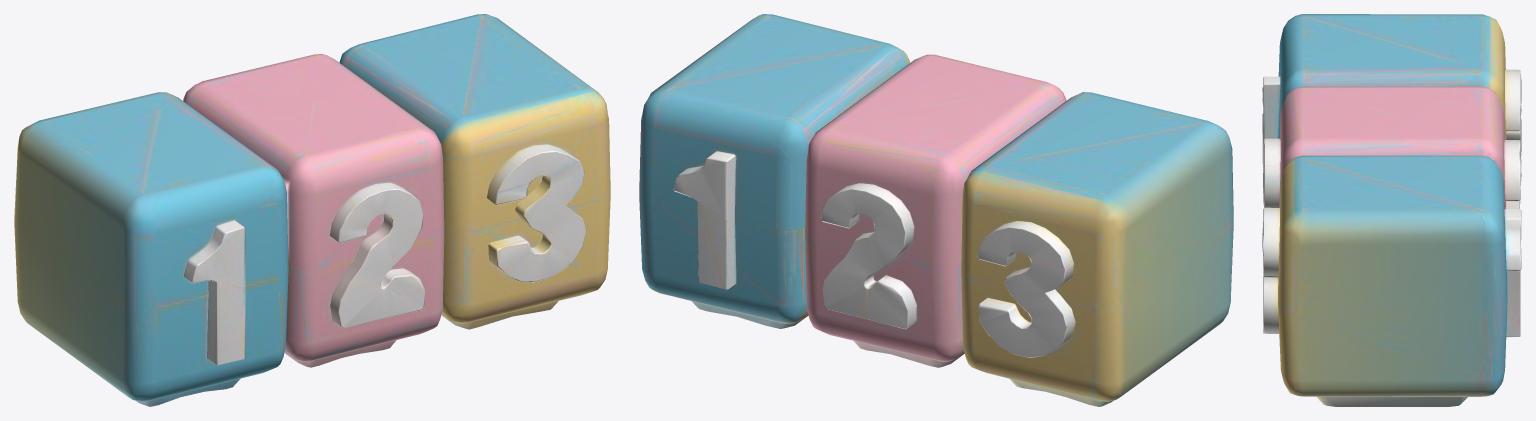
File: toyBlocks.glb
The picture shows the model from 3 angles, left to right: view 1: azimuth 30°, elevation 25°; view 2: azimuth 150°, elevation 25°; view 3: azimuth 270°, elevation 25°; orthographic projection. The views are drawn at different scales.
Parts seen in each view (by area): view 1: toyBlocks; view 2: toyBlocks; view 3: toyBlocks.
Boxes of the visible parts, x1,y1,x2,y2 form: toyBlocks: (14, 14, 610, 406); toyBlocks: (639, 14, 1233, 406); toyBlocks: (1262, 14, 1521, 406).
Bounding box in the file's own units: 0.26 × 0.1173 × 0.1346.
1 material, 1 textured.
